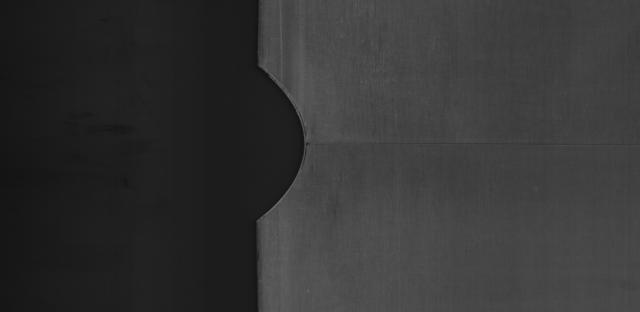crescent_gap: (224, 60, 320, 224)
welding_line: (290, 134, 640, 156)
